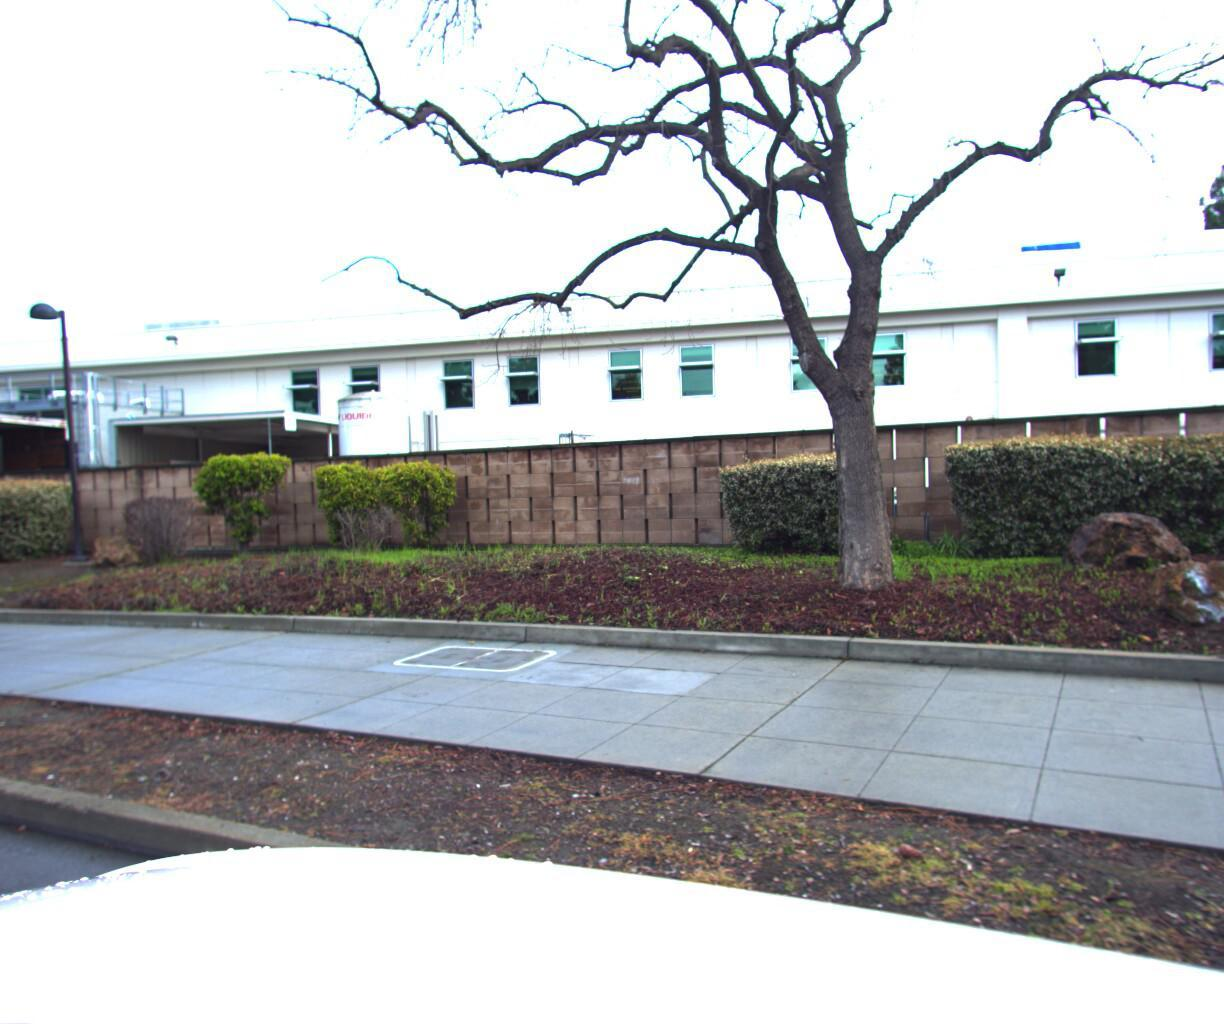truck: (0, 411, 96, 548)
